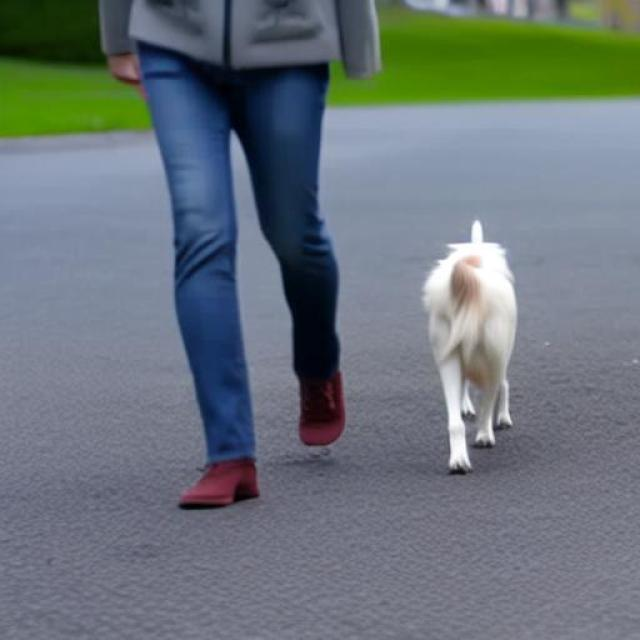Unleashed_Dog: (188, 44, 518, 477)
